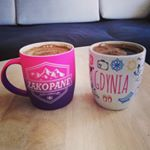cups: (1, 40, 78, 111), (86, 39, 148, 112)
